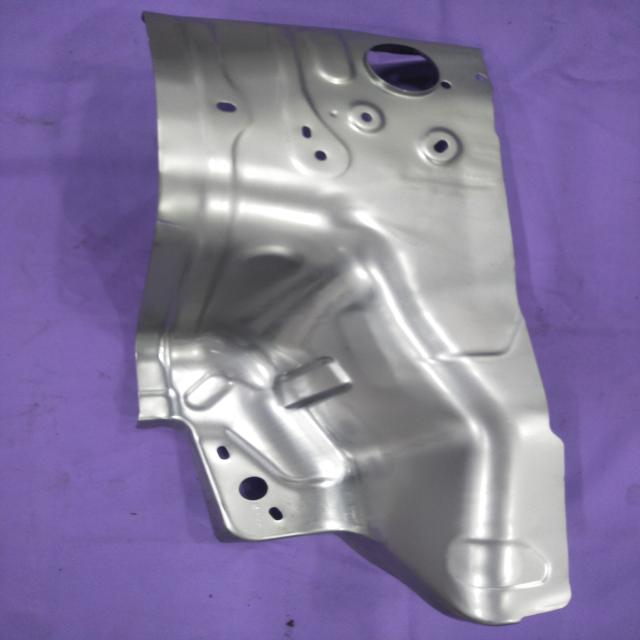Defect: (140, 203, 199, 242)
